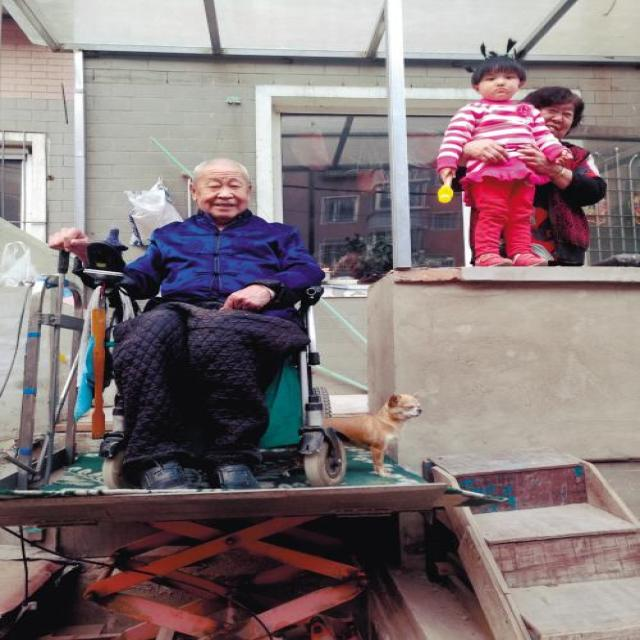wheelchairs: (53, 231, 366, 489)
